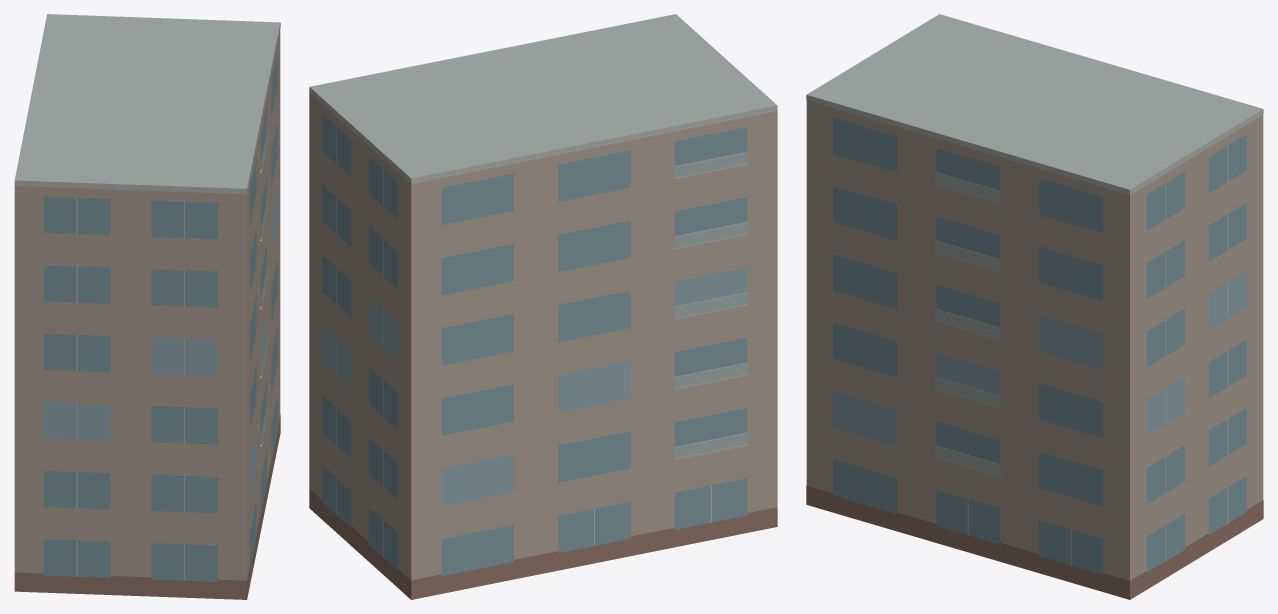
Rendered from survey-upis-32537704.glb.
The picture shows the model from 3 angles, left to right: view 1: azimuth 30°, elevation 25°; view 2: azimuth 150°, elevation 25°; view 3: azimuth 270°, elevation 25°; orthographic projection. The views are drawn at different scales.
Parts seen in each view (by area): view 1: survey-upis-32537704.tmp; view 2: survey-upis-32537704.tmp; view 3: survey-upis-32537704.tmp.
Boxes of the visible parts, x1,y1,x2,y2 form: survey-upis-32537704.tmp: [14, 14, 280, 599]; survey-upis-32537704.tmp: [309, 14, 777, 599]; survey-upis-32537704.tmp: [806, 14, 1263, 599].
Bounding box in the file's own units: 16.84 × 18.3 × 18.49.
